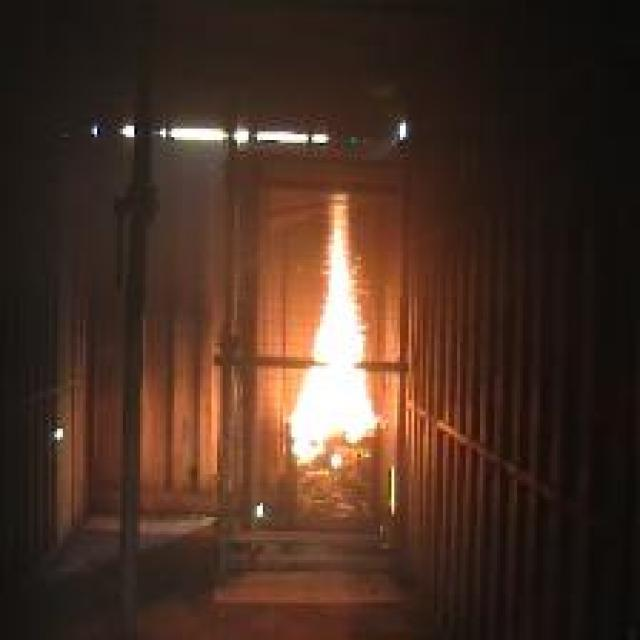Fire: (286, 194, 383, 466)
